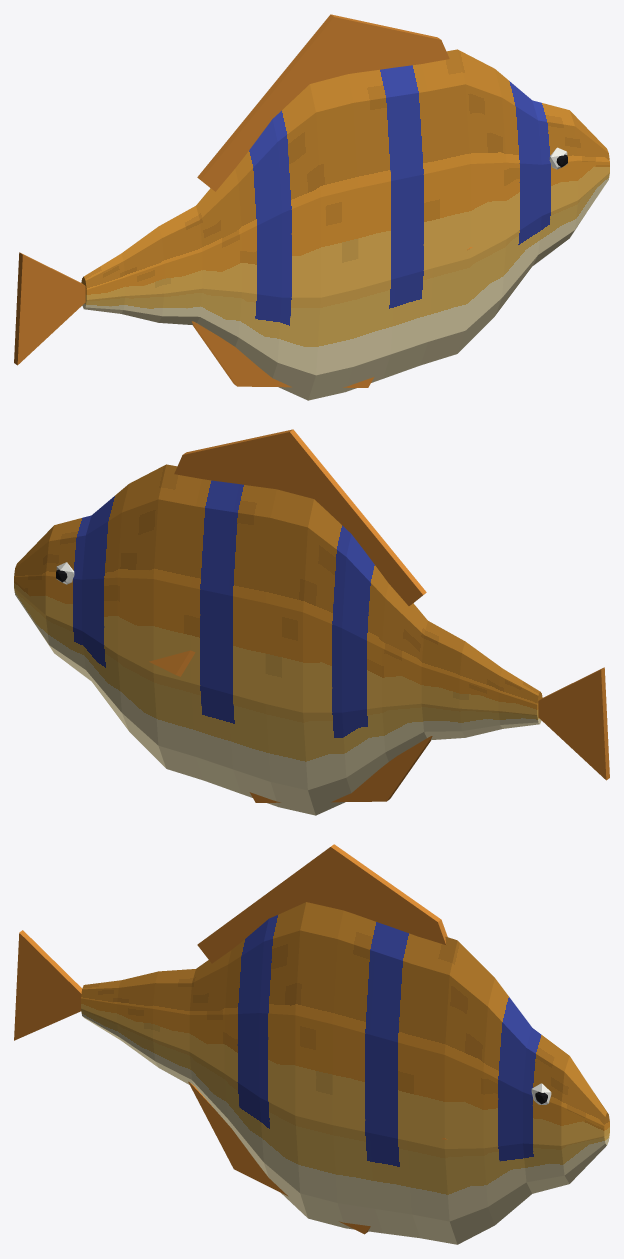
The model's file is regal_angelfish.glb.
3 renders of one model, top to bottom at view 1: azimuth 30°, elevation 25°; view 2: azimuth 150°, elevation 25°; view 3: azimuth 330°, elevation 25°, orthographic.
Visible parts, largest first — view 1: fish_regal_angelfish; view 2: fish_regal_angelfish; view 3: fish_regal_angelfish.
Part boxes in pixels (x1=…): fish_regal_angelfish: x1=14, y1=14, x2=609, y2=400; fish_regal_angelfish: x1=14, y1=429, x2=609, y2=815; fish_regal_angelfish: x1=14, y1=844, x2=609, y2=1244.
Size of the model in its own units: 1.13 by 0.6934 by 0.1177.
4 materials, 1 textured.
